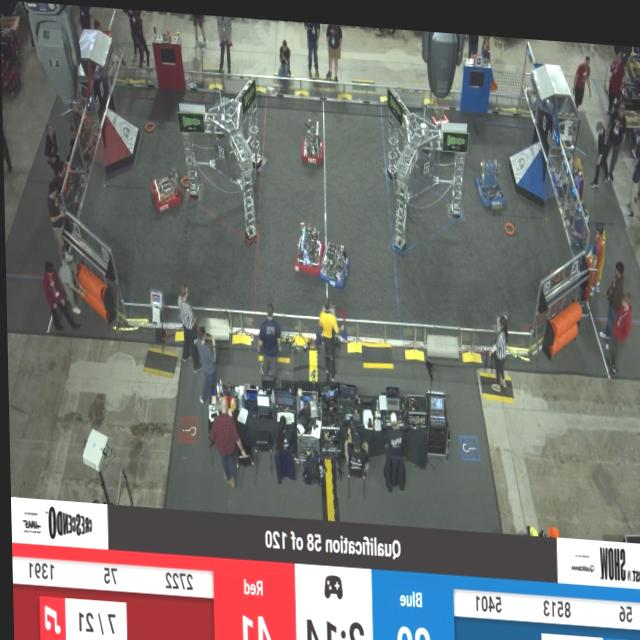Robot: (147, 161, 185, 216), (471, 147, 503, 205), (316, 236, 350, 290), (291, 214, 319, 273), (299, 109, 325, 164), (428, 97, 450, 144)
